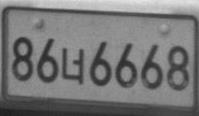6: (88, 40, 112, 87), (35, 37, 59, 83), (114, 43, 138, 88), (139, 44, 163, 89)
8: (165, 44, 190, 91), (10, 36, 34, 81)
너: (61, 47, 85, 84)
